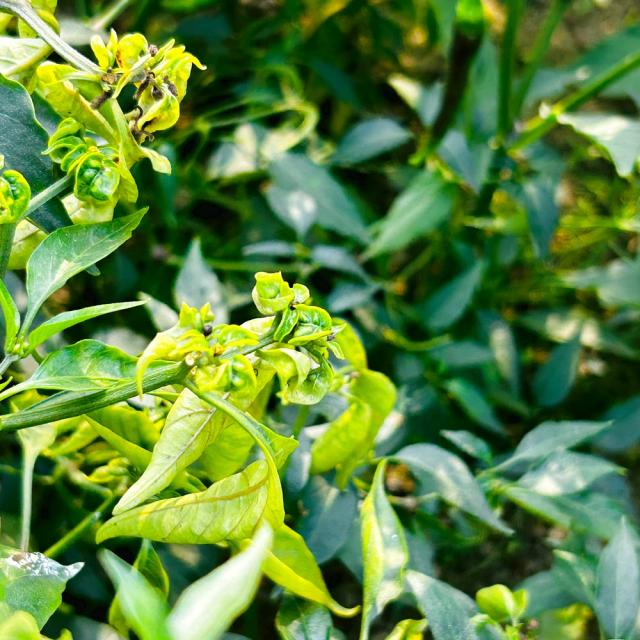Chilli_Leaf_Curl: (1, 1, 638, 638), (94, 270, 360, 628), (0, 1, 205, 370), (108, 383, 299, 519), (12, 203, 150, 354), (94, 458, 274, 546), (357, 457, 410, 638)
